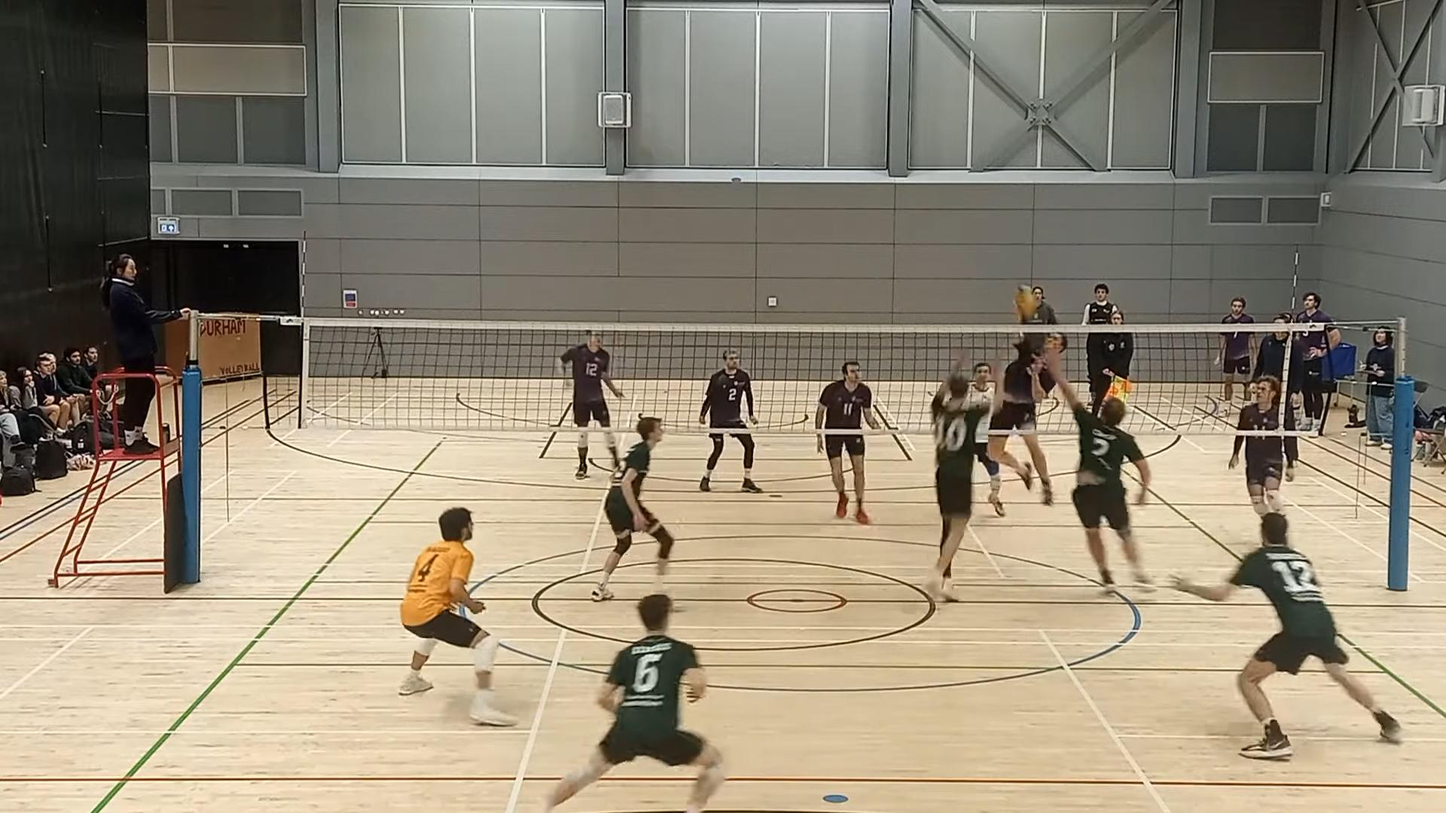attacco: (989, 281, 1071, 510)
muro: (1042, 344, 1155, 601), (924, 349, 1005, 600)
